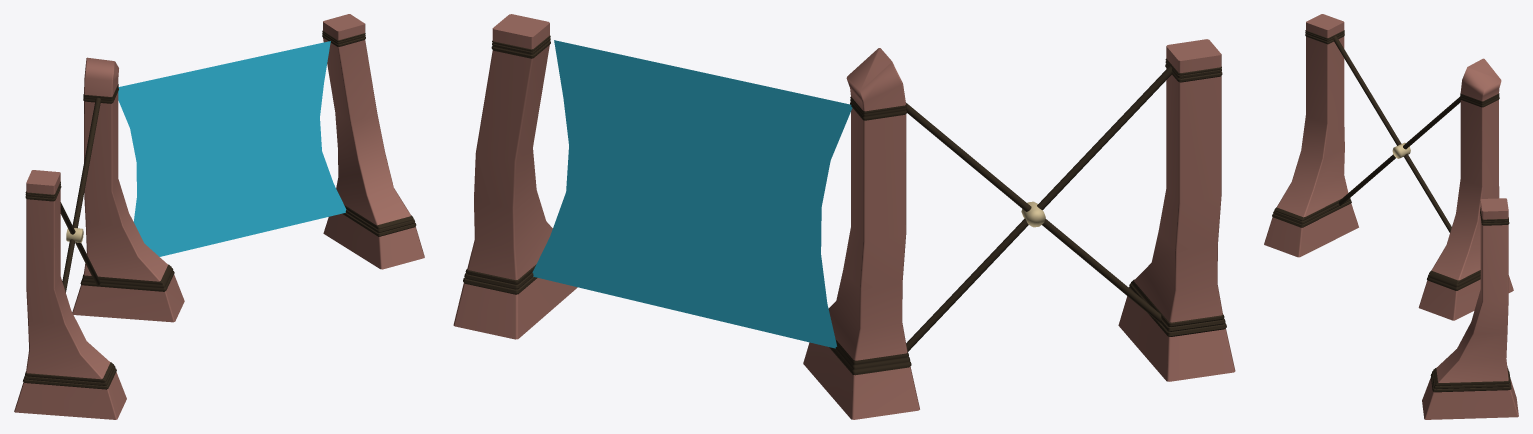
File: SM_colonne-teloblu.fbx
3 views of the same model, side by side, from view 1: azimuth 30°, elevation 25°; view 2: azimuth 150°, elevation 25°; view 3: azimuth 270°, elevation 25° (orthographic). The views are drawn at different scales.
Parts seen in each view (by area): view 1: pPlane9; view 2: pPlane9; view 3: pPlane9.
Boxes of the visible parts, box(x1,y1,x2,y2) form: pPlane9: box(14, 14, 424, 419); pPlane9: box(453, 14, 1235, 419); pPlane9: box(1264, 14, 1518, 419).
Size of the model in its own units: 1253 by 644 by 656.
